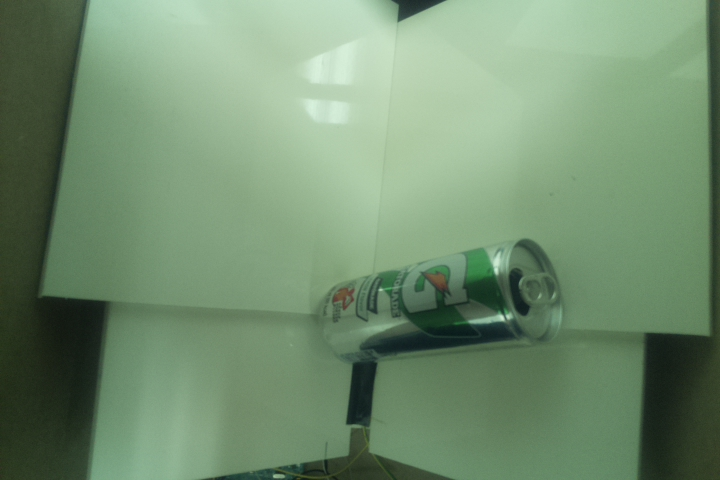can: (321, 238, 565, 366)
